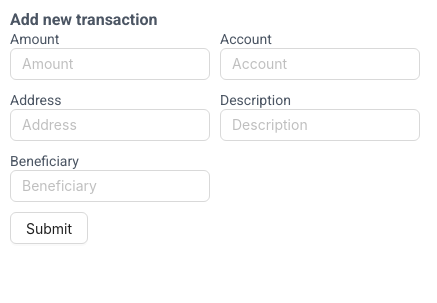
Test: Form Component › shows error when address contains invalid characters
In the field labelled "Address": (110,125) [10,109,210,141], type "Invalid!Address#"
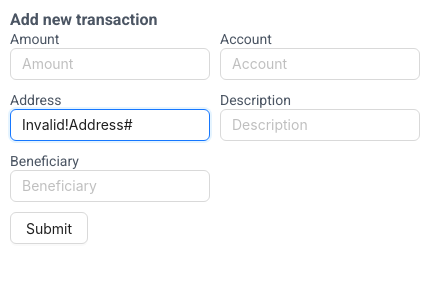
Click the button "Submit": (49,228) [10,212,88,244]
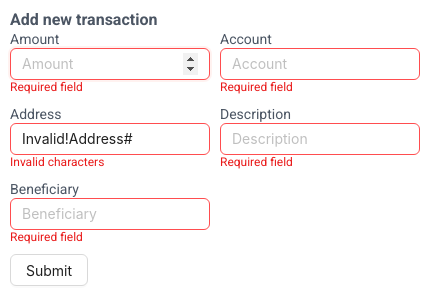
Expected: the text "Invalid characters" is shown, [10,155,104,169]
